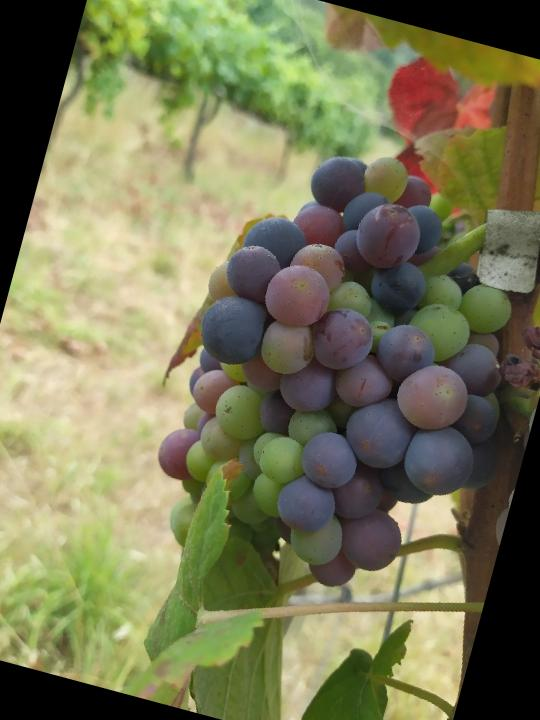grape: (131, 115, 540, 624)
